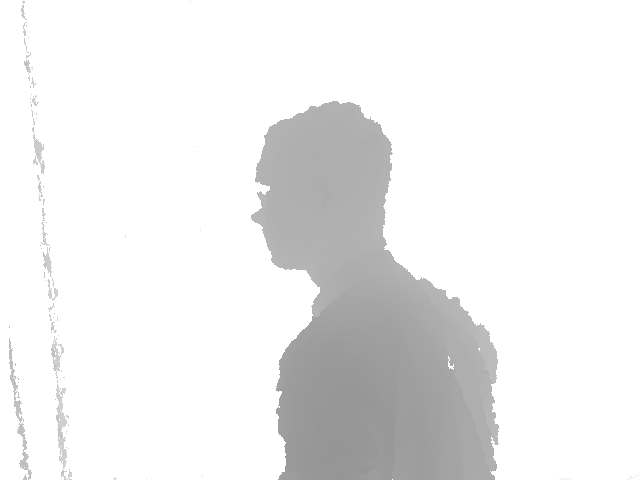head: (250, 101, 392, 271)
person: (249, 101, 503, 480)
